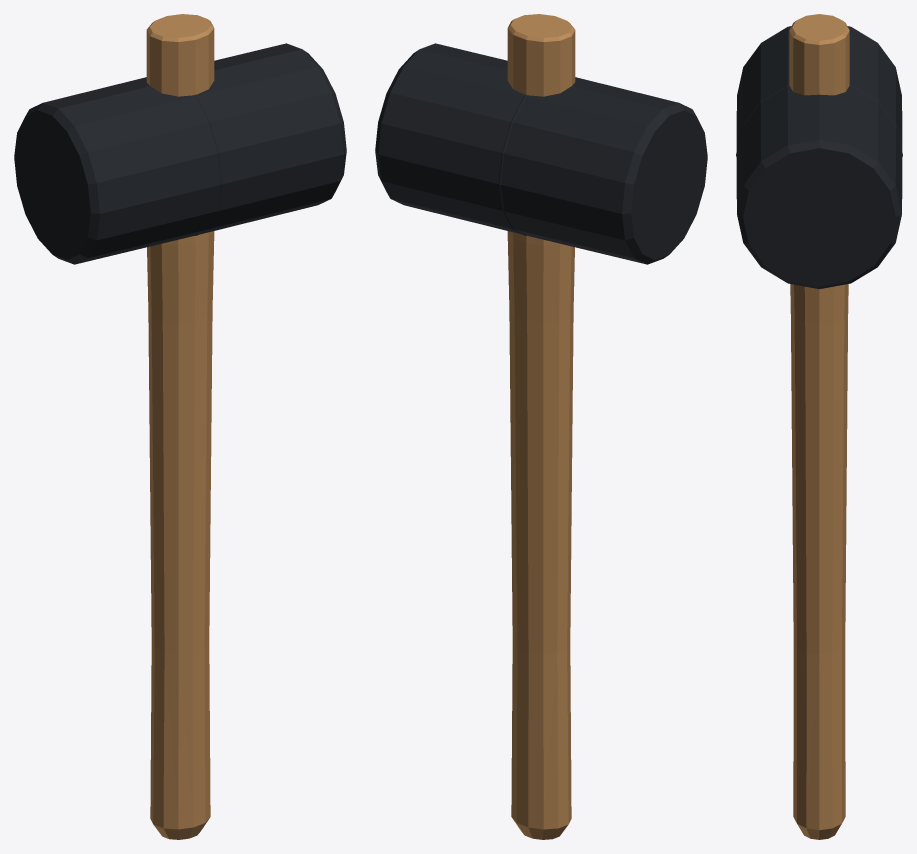
The picture shows the model from 3 angles, left to right: view 1: azimuth 30°, elevation 25°; view 2: azimuth 150°, elevation 25°; view 3: azimuth 270°, elevation 25°; orthographic projection.
Parts seen in each view (by area): view 1: Black_rubber_head_with_through_eye, Continuous_wood_handle_unbranded; view 2: Black_rubber_head_with_through_eye, Continuous_wood_handle_unbranded; view 3: Black_rubber_head_with_through_eye, Continuous_wood_handle_unbranded.
Part boxes in pixels (bbox=[...]): Black_rubber_head_with_through_eye: bbox=[14, 43, 346, 264]; Continuous_wood_handle_unbranded: bbox=[146, 14, 214, 839]; Black_rubber_head_with_through_eye: bbox=[375, 43, 707, 264]; Continuous_wood_handle_unbranded: bbox=[507, 14, 575, 839]; Black_rubber_head_with_through_eye: bbox=[736, 26, 902, 288]; Continuous_wood_handle_unbranded: bbox=[789, 14, 849, 839].
Size of the model in its own units: 0.113 by 0.34 by 0.064.
